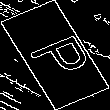P_NE: (17, 27, 93, 83)
